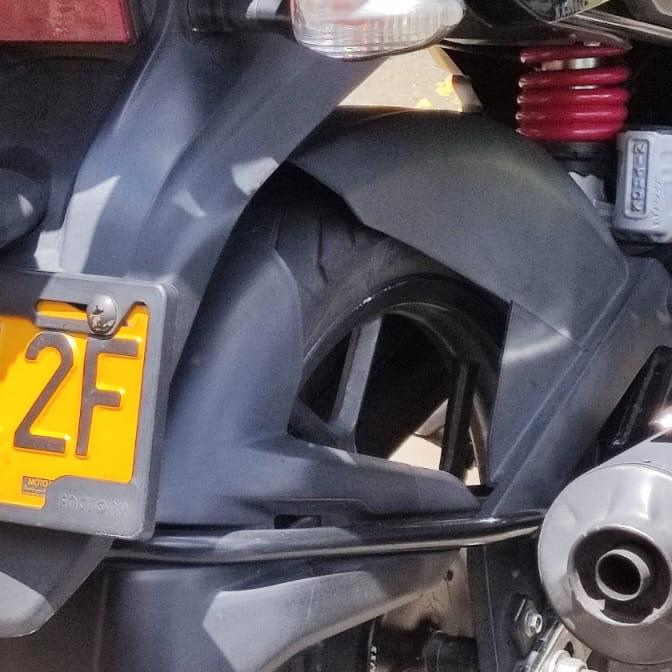plates: (0, 278, 157, 529)
